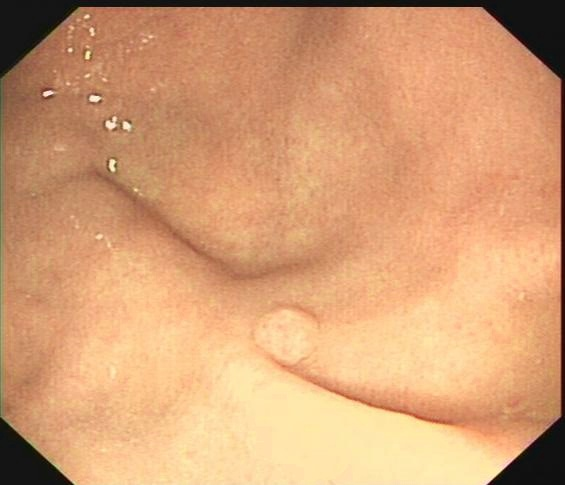Polyp: (244, 300, 334, 375)
